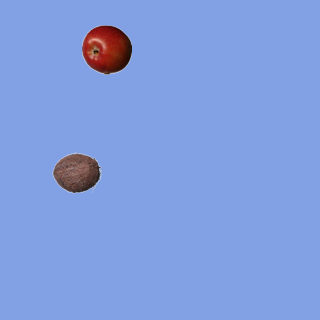Apple Braeburn: (81, 24, 131, 74)
Cocos: (51, 147, 101, 197)
